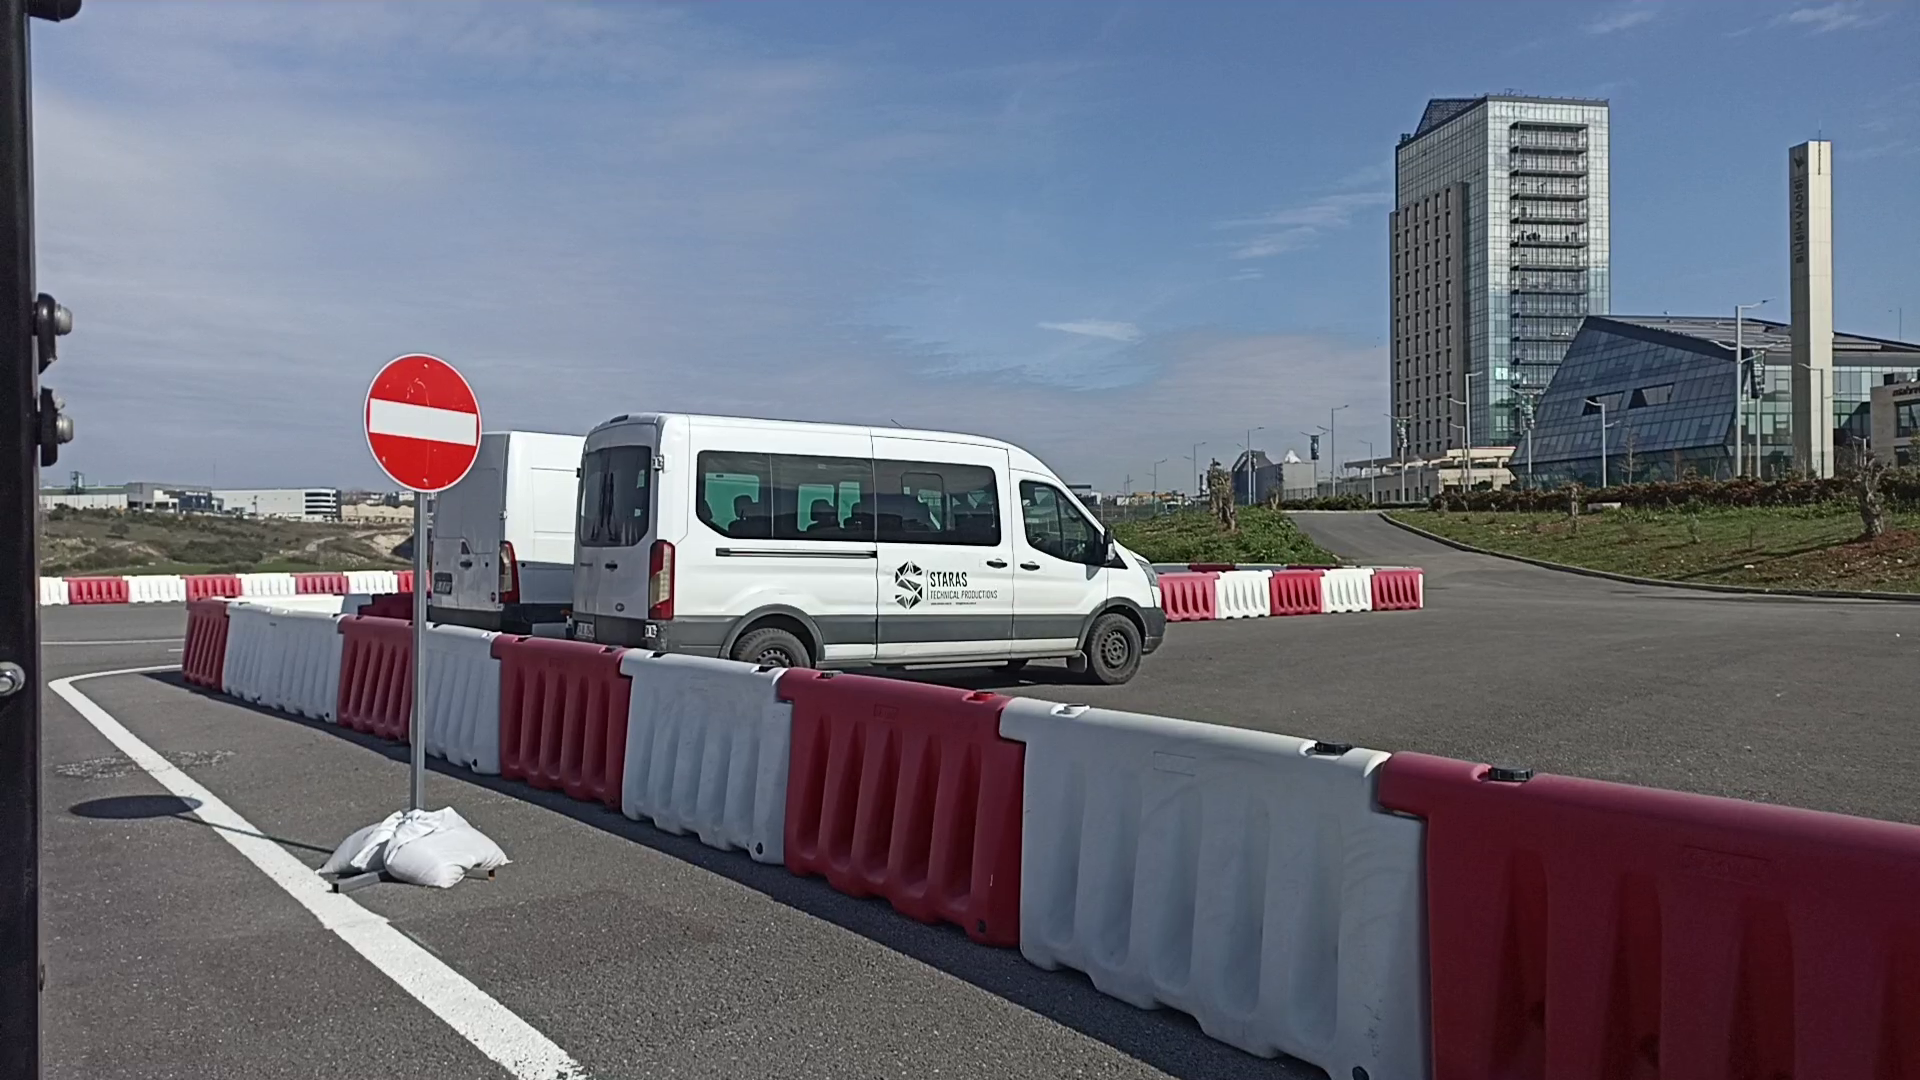noentryway: (360, 349, 483, 495)
